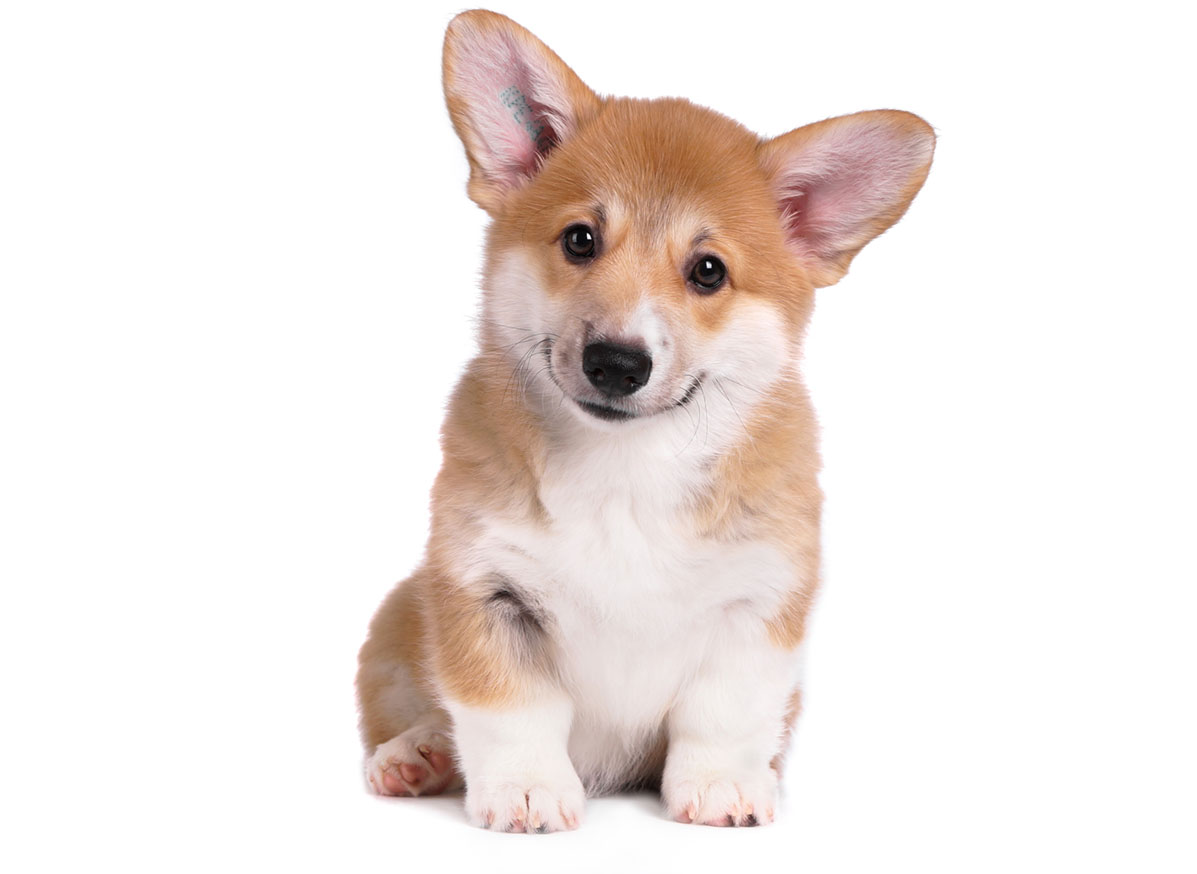corgi: (371, 10, 949, 824)
